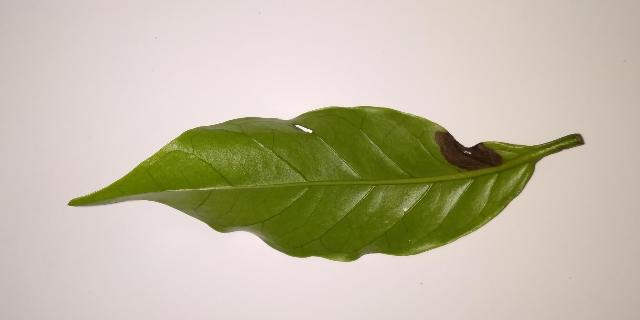rust: (435, 129, 503, 171)
